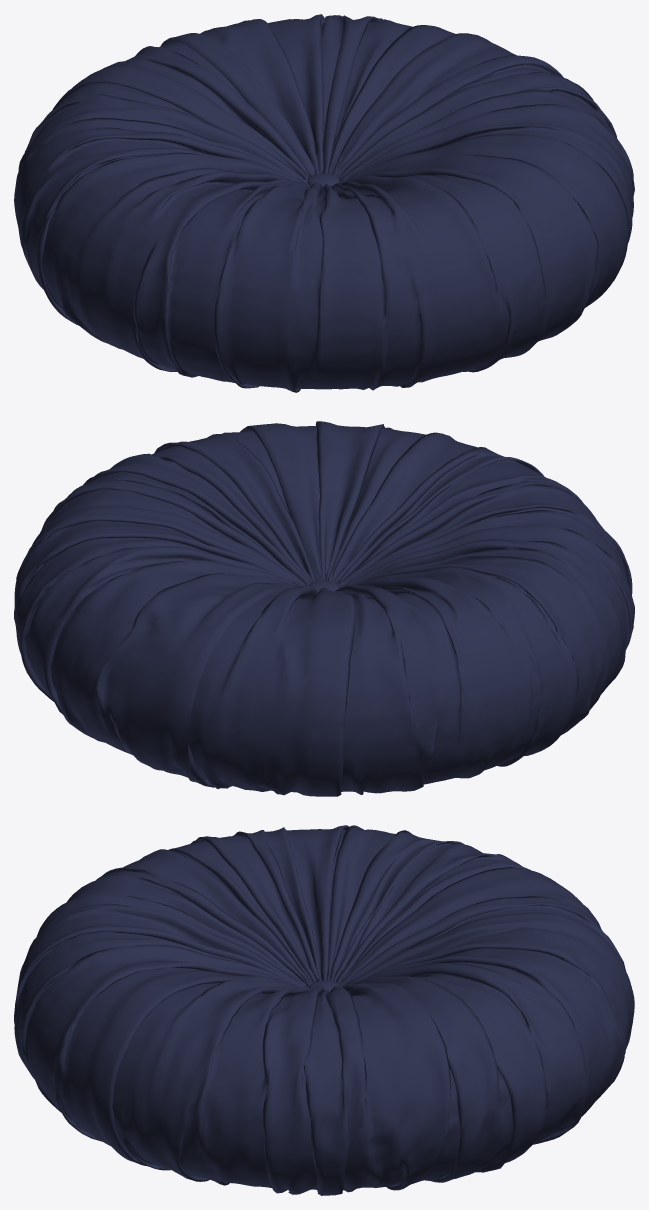
Rendered from SpecularSilkPouf.glb.
The picture shows the model from 3 angles, top to bottom: view 1: azimuth 30°, elevation 25°; view 2: azimuth 150°, elevation 25°; view 3: azimuth 270°, elevation 25°; orthographic projection.
Parts seen in each view (by area): view 1: SpecularSilkPouf; view 2: SpecularSilkPouf; view 3: SpecularSilkPouf.
Part boxes in pixels (x1,y1,x2,y2): SpecularSilkPouf: (14,14,634,392); SpecularSilkPouf: (14,421,634,796); SpecularSilkPouf: (14,825,634,1195).
Bounding box in the file's own units: 0.6099 × 0.1978 × 0.61.
